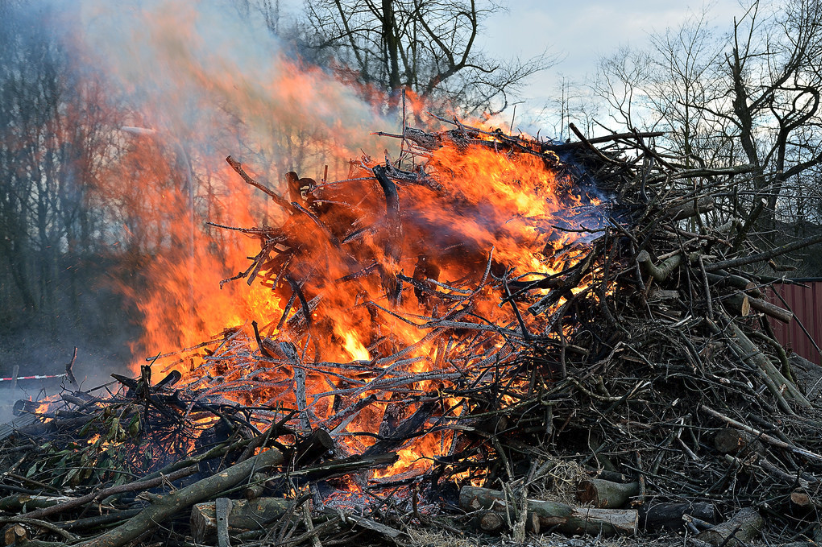fire: (144, 88, 605, 450)
